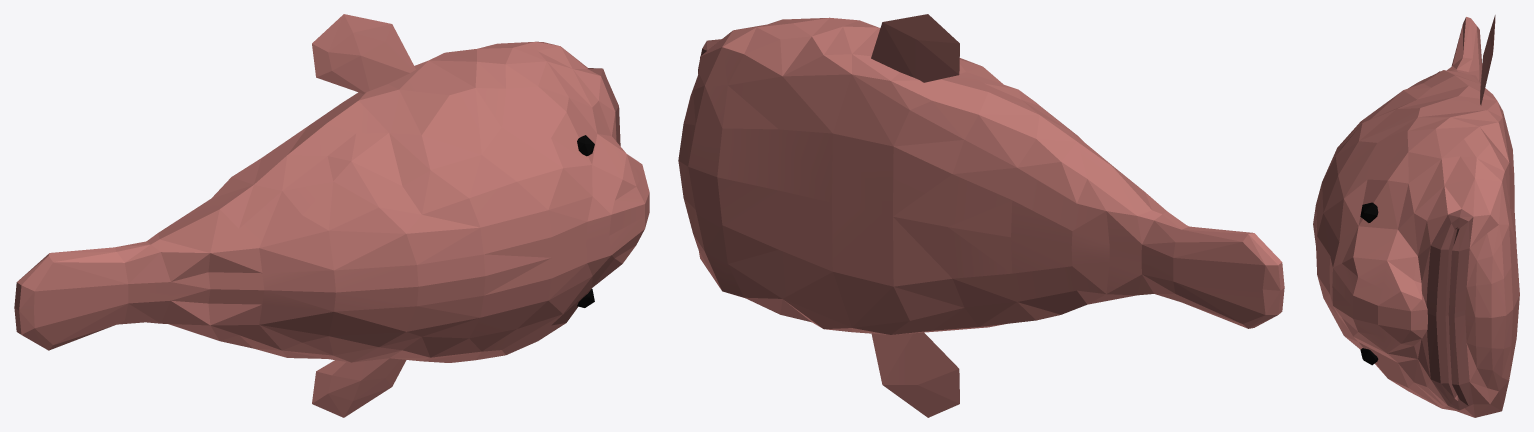
File: Blobfish.glb
The picture shows the model from 3 angles, left to right: view 1: azimuth 30°, elevation 25°; view 2: azimuth 150°, elevation 25°; view 3: azimuth 270°, elevation 25°; orthographic projection. The views are drawn at different scales.
Parts seen in each view (by area): view 1: Blobfish; view 2: Blobfish; view 3: Blobfish.
Part boxes in pixels (x1=…): Blobfish: x1=14, y1=14, x2=649, y2=417; Blobfish: x1=678, y1=14, x2=1284, y2=417; Blobfish: x1=1313, y1=15, x2=1519, y2=417.
Bounding box in the file's own units: 0.9819 × 0.6355 × 0.314.
1 material, 1 textured.
